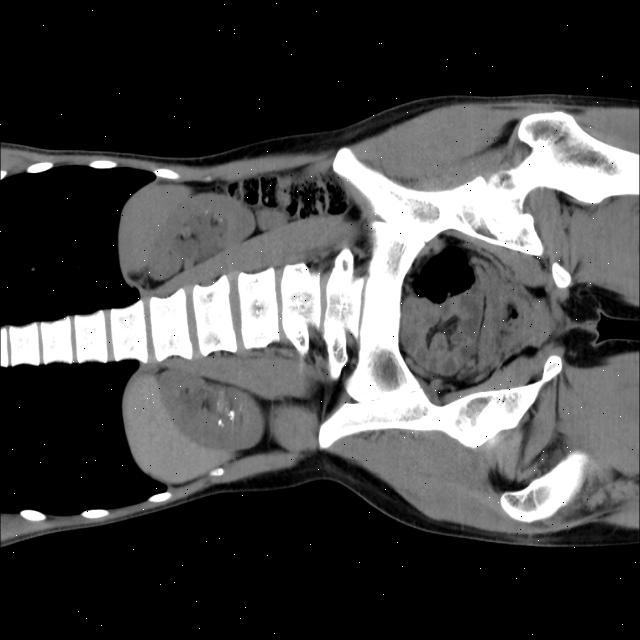kidneystone: (226, 405, 235, 422)
